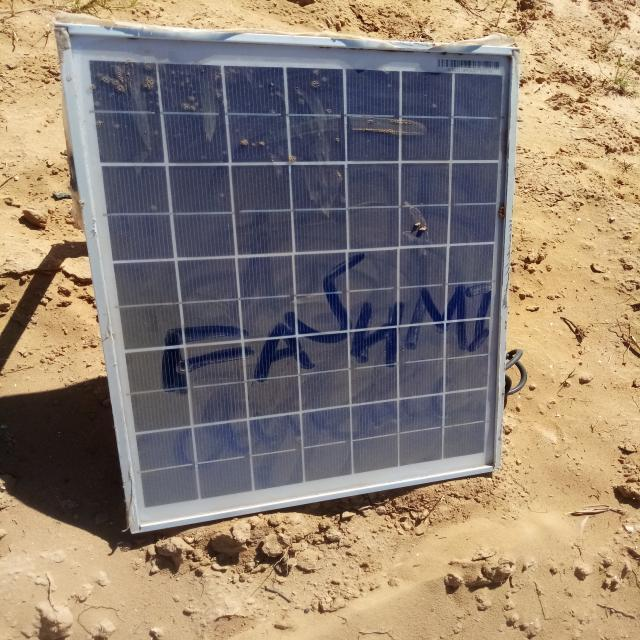faulty: (59, 30, 515, 530)
